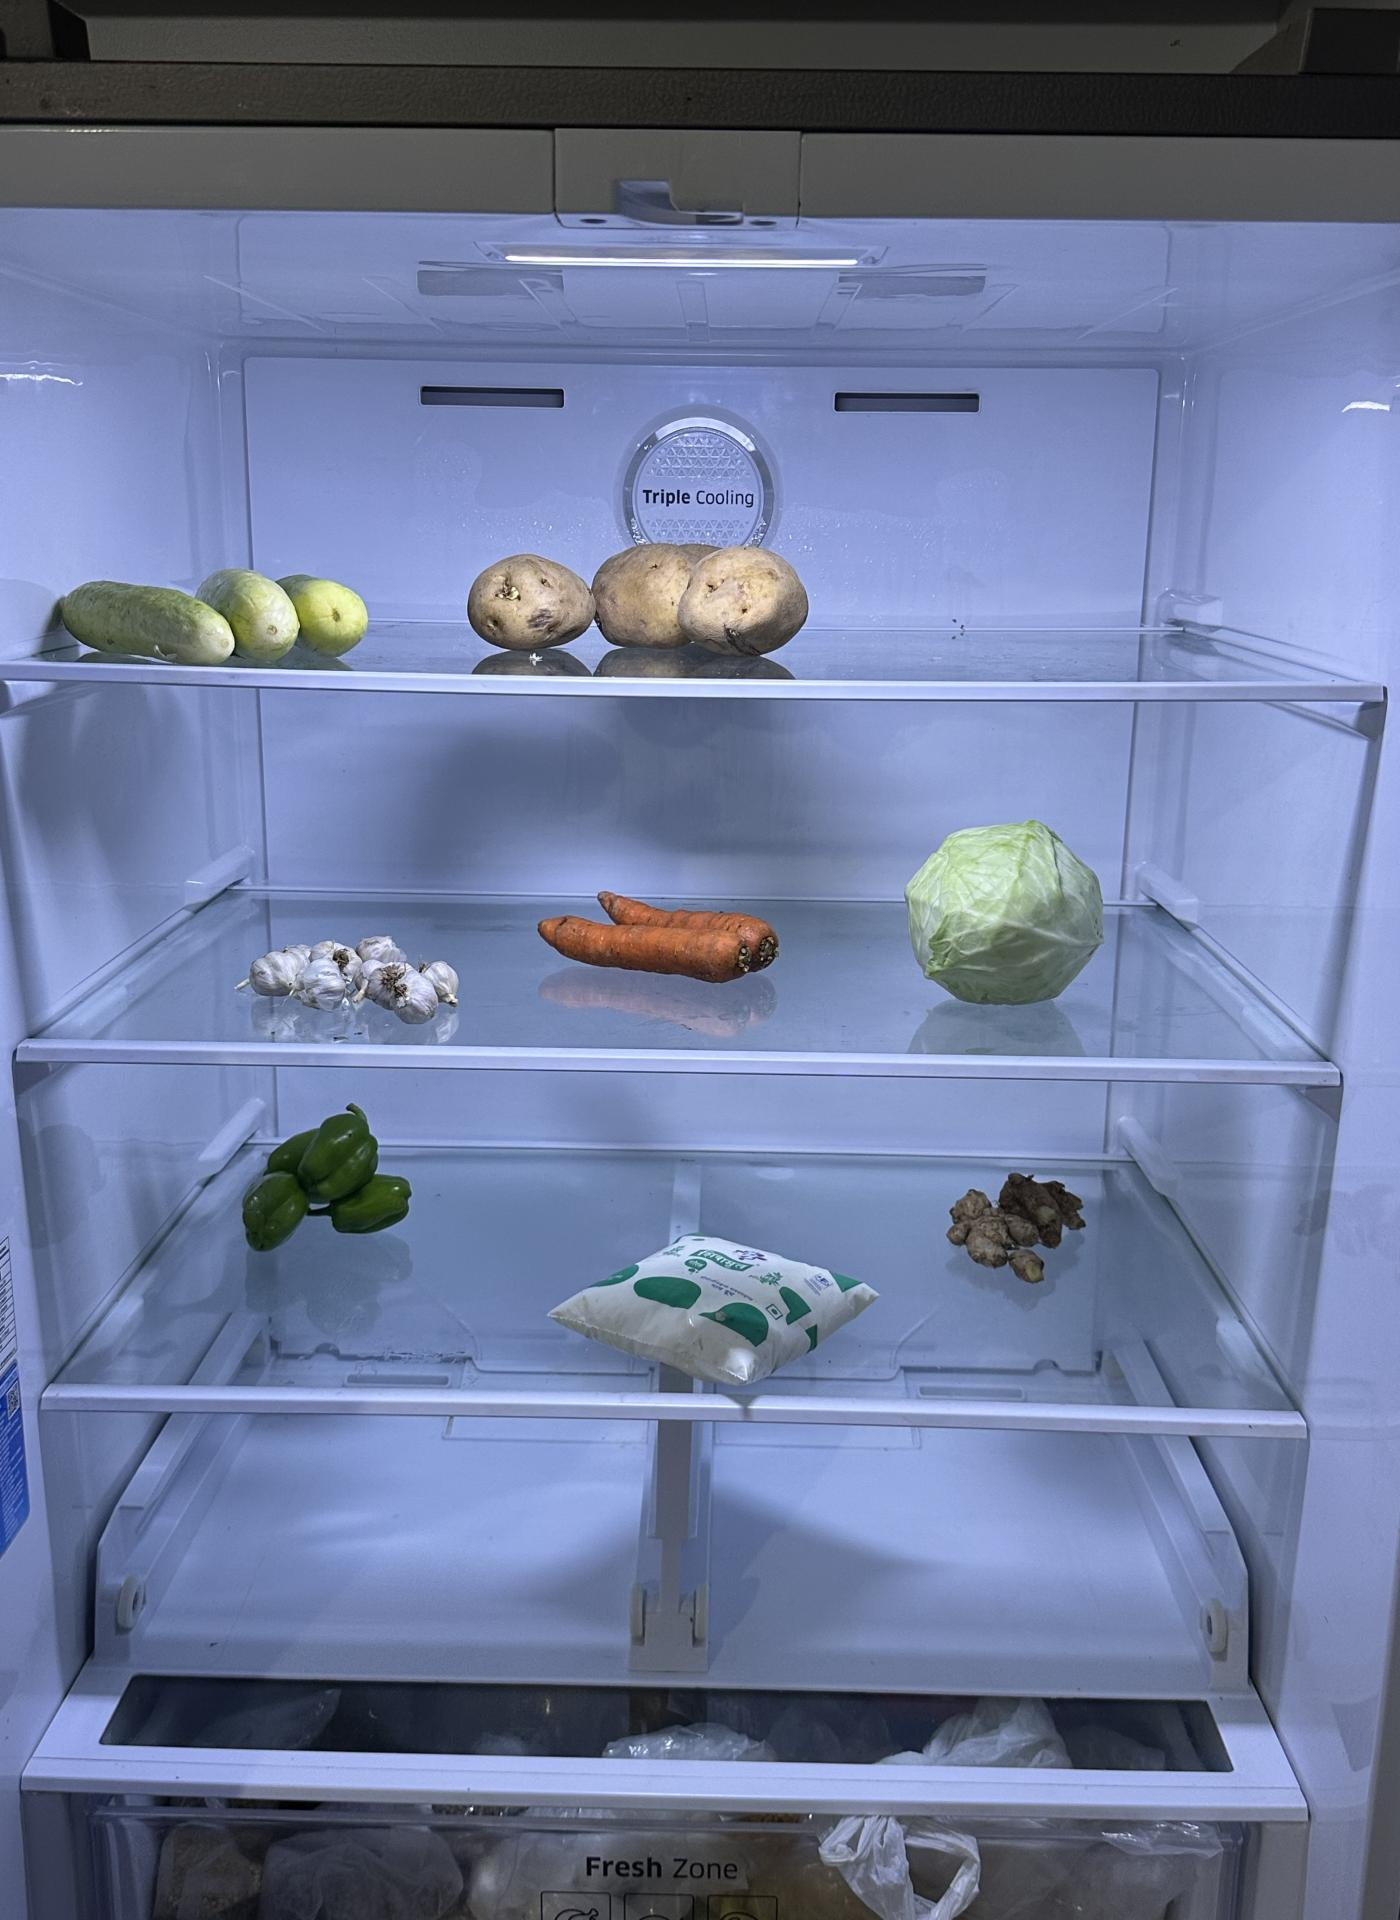cabbage: (902, 806, 1109, 1005)
capsicum: (237, 1099, 414, 1249)
carrots: (532, 882, 789, 987)
cucumber: (40, 555, 377, 668)
garlic: (240, 933, 465, 1023)
ginger: (939, 1160, 1091, 1285)
milk: (550, 1219, 871, 1379)
potato: (461, 525, 813, 653)
